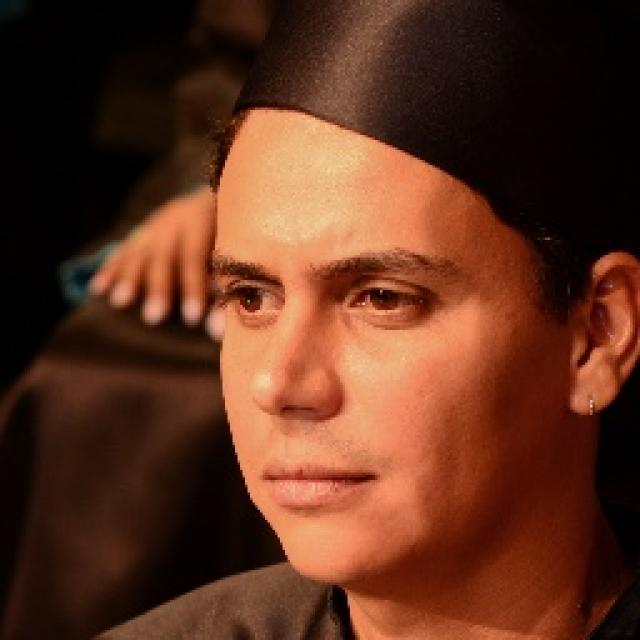earlobe: (563, 380, 627, 419)
eye: (344, 284, 432, 321), (225, 284, 284, 319)
nose: (260, 401, 337, 446)
wholeear: (568, 246, 640, 419)
